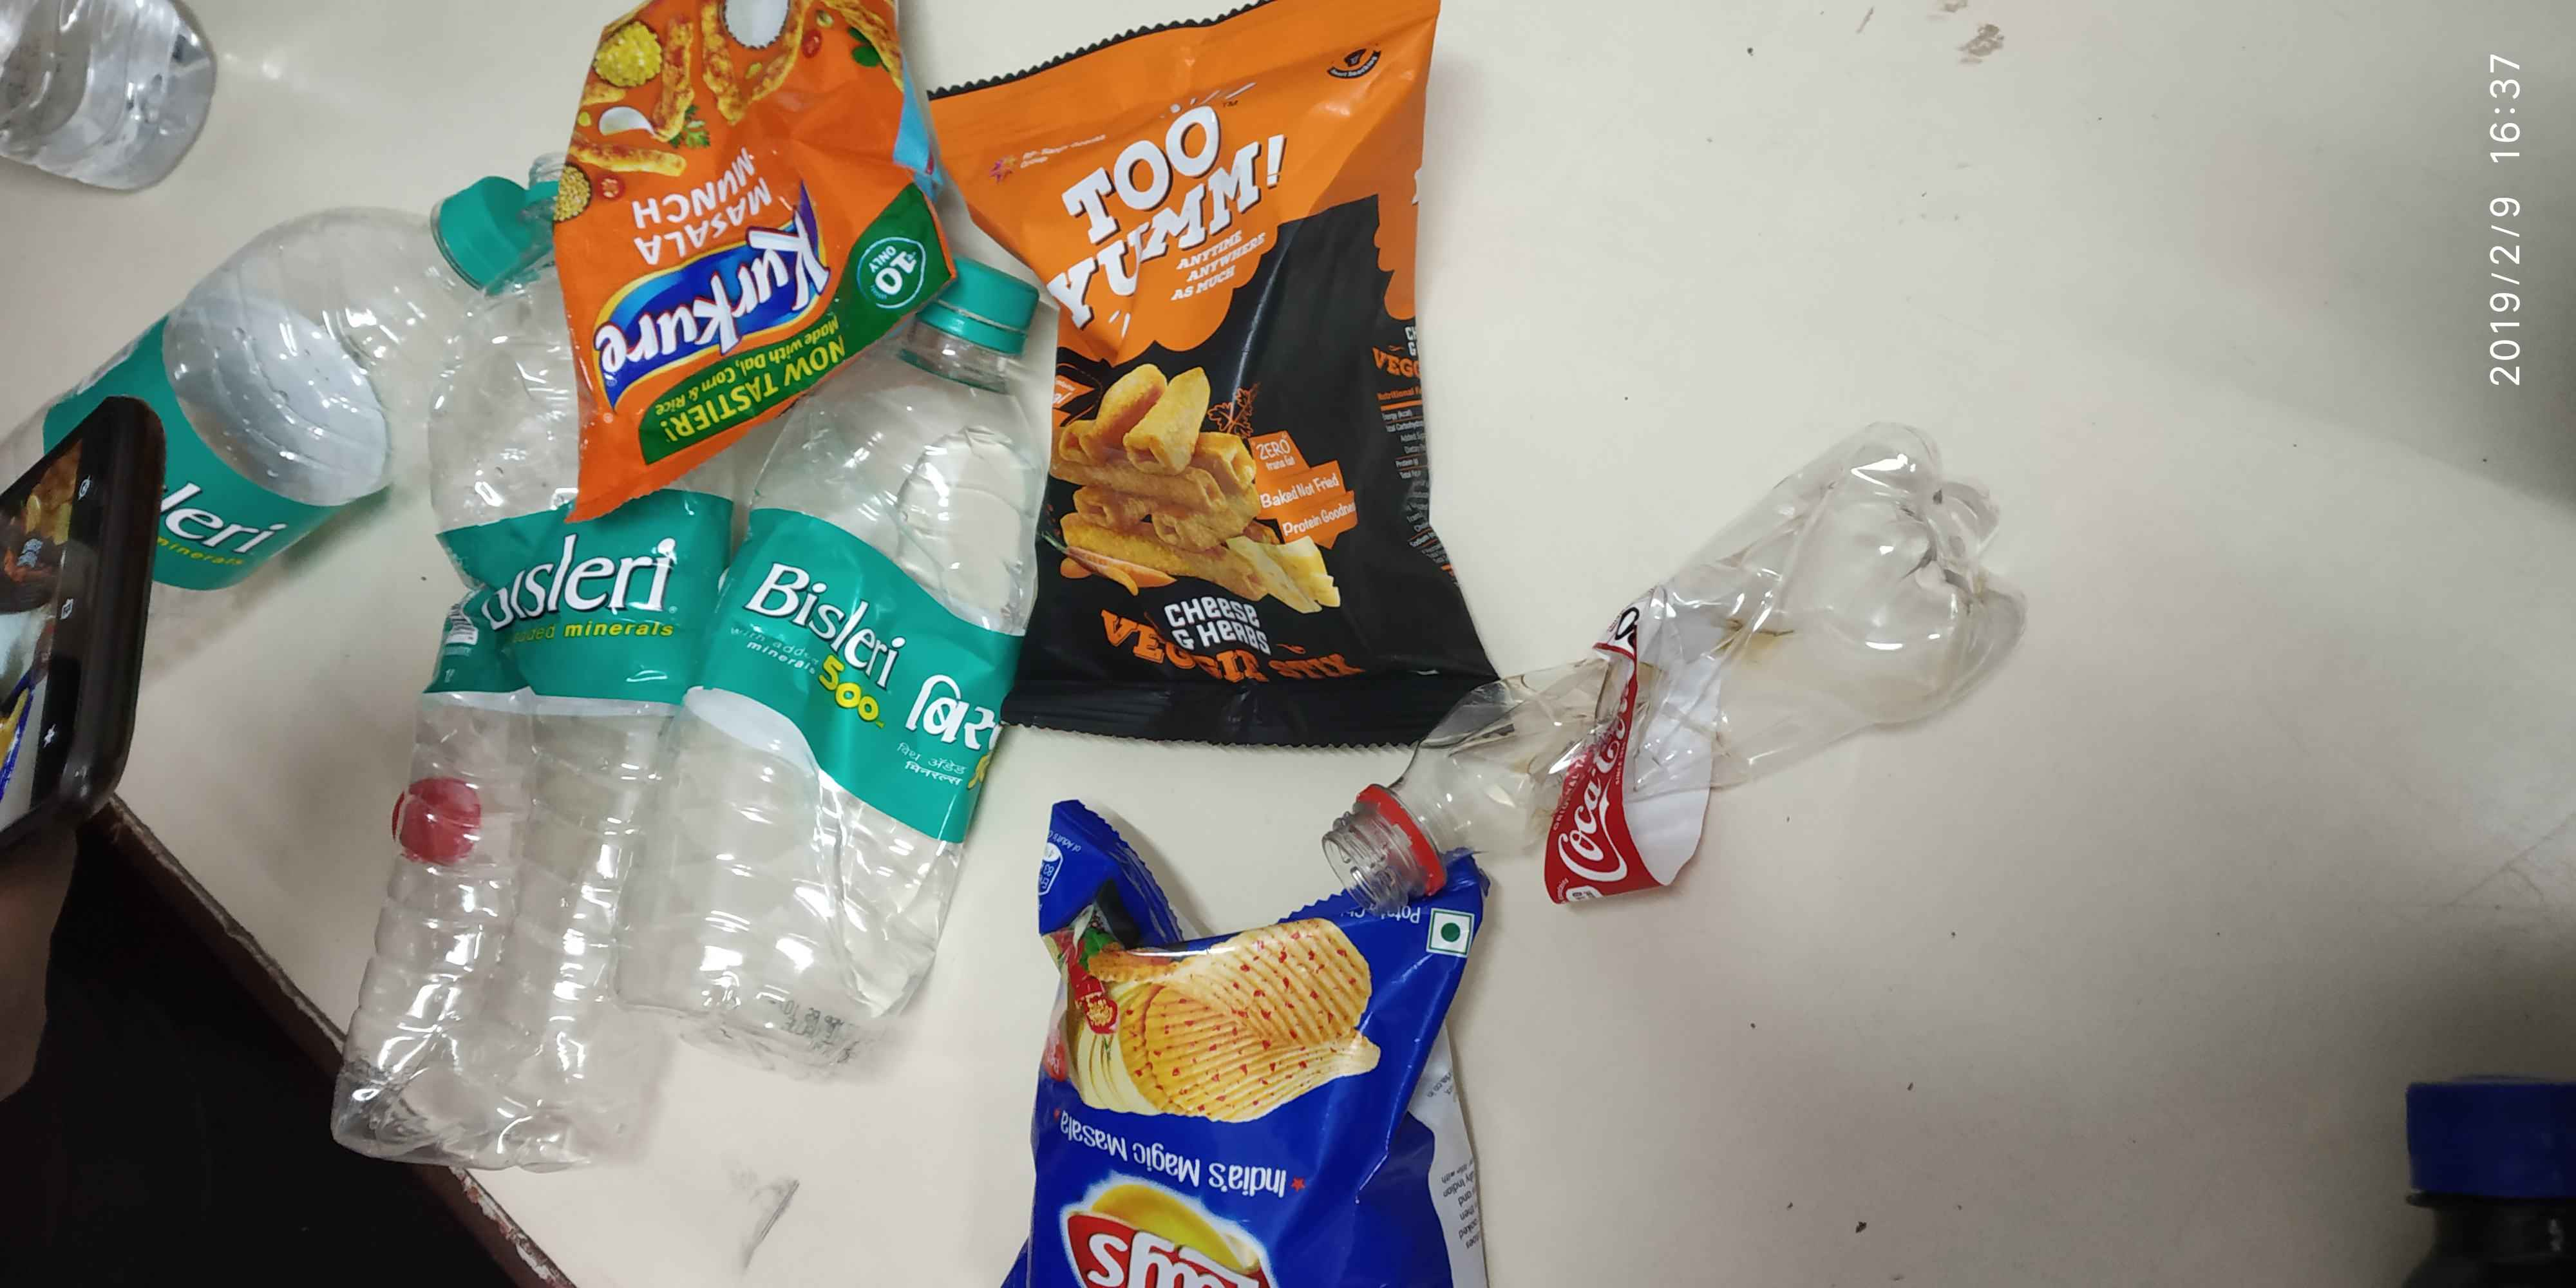Bisleri: (752, 557, 1010, 777), (458, 527, 728, 662), (158, 463, 297, 563)
Coca-Cola: (1557, 700, 1648, 894)
Lays: (1038, 1160, 1327, 1288)
kurkure: (593, 200, 866, 324)
tooyumm: (1063, 84, 1303, 352)
